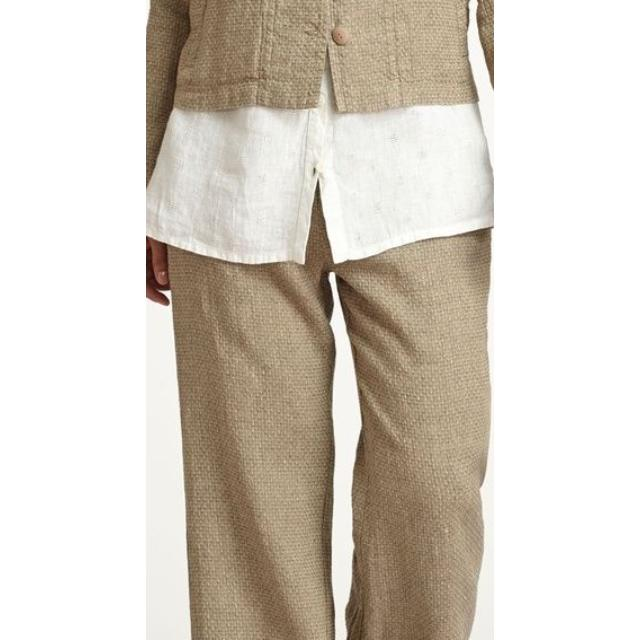linen: (146, 0, 494, 258)
